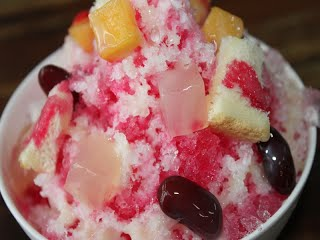O-eo: (5, 1, 310, 240)
